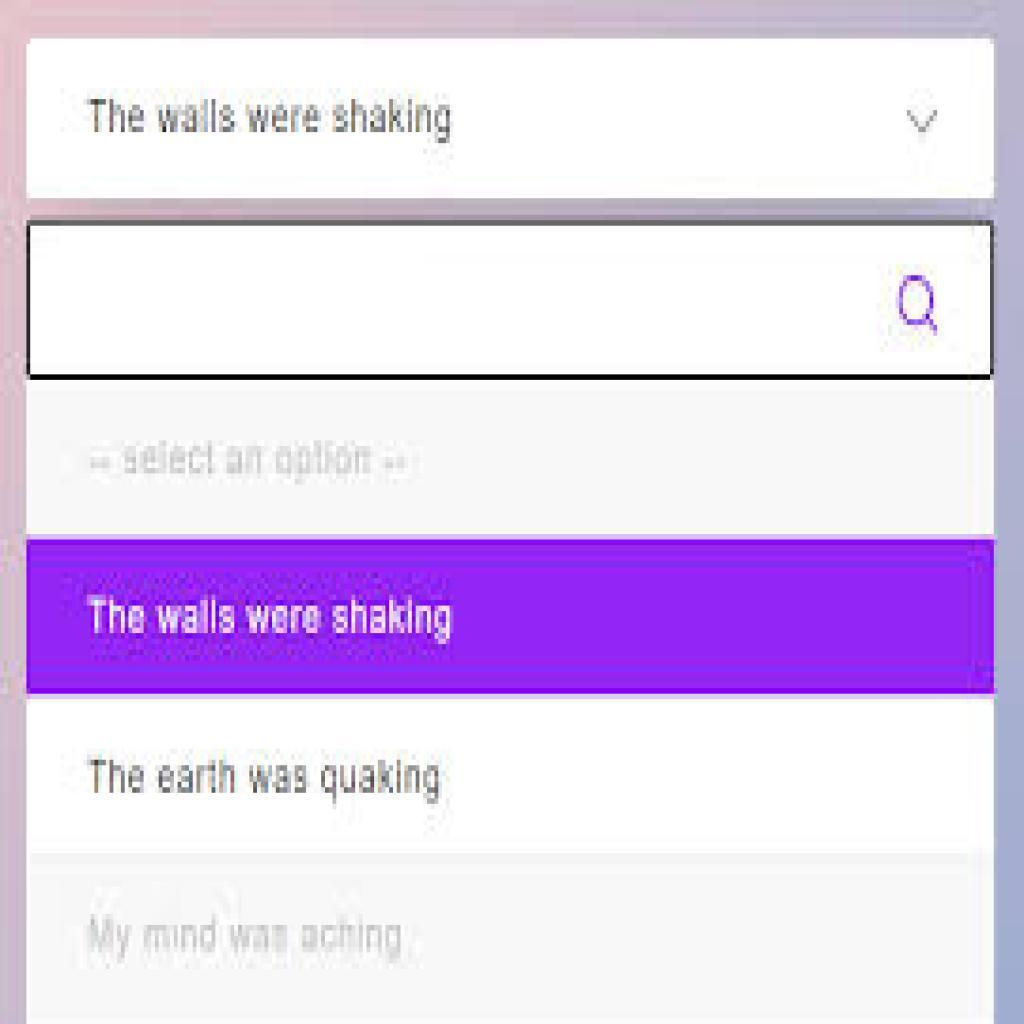button: (28, 535, 995, 693)
dropdown: (26, 36, 997, 200)
icon: (891, 268, 957, 342)
input: (27, 222, 995, 379)
label: (88, 751, 447, 810), (84, 910, 403, 968), (85, 440, 410, 485)
